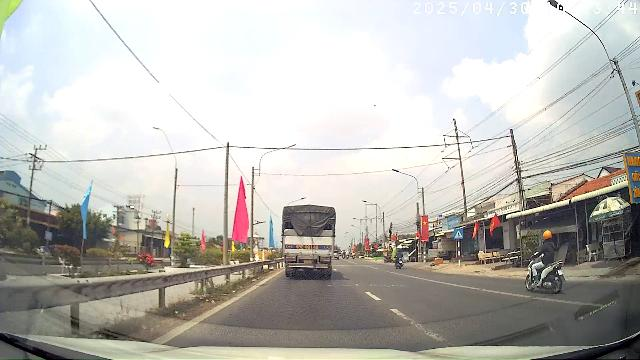423a-duong-nguoi-di-bo-sang-ngang-1: (454, 229, 464, 239)
